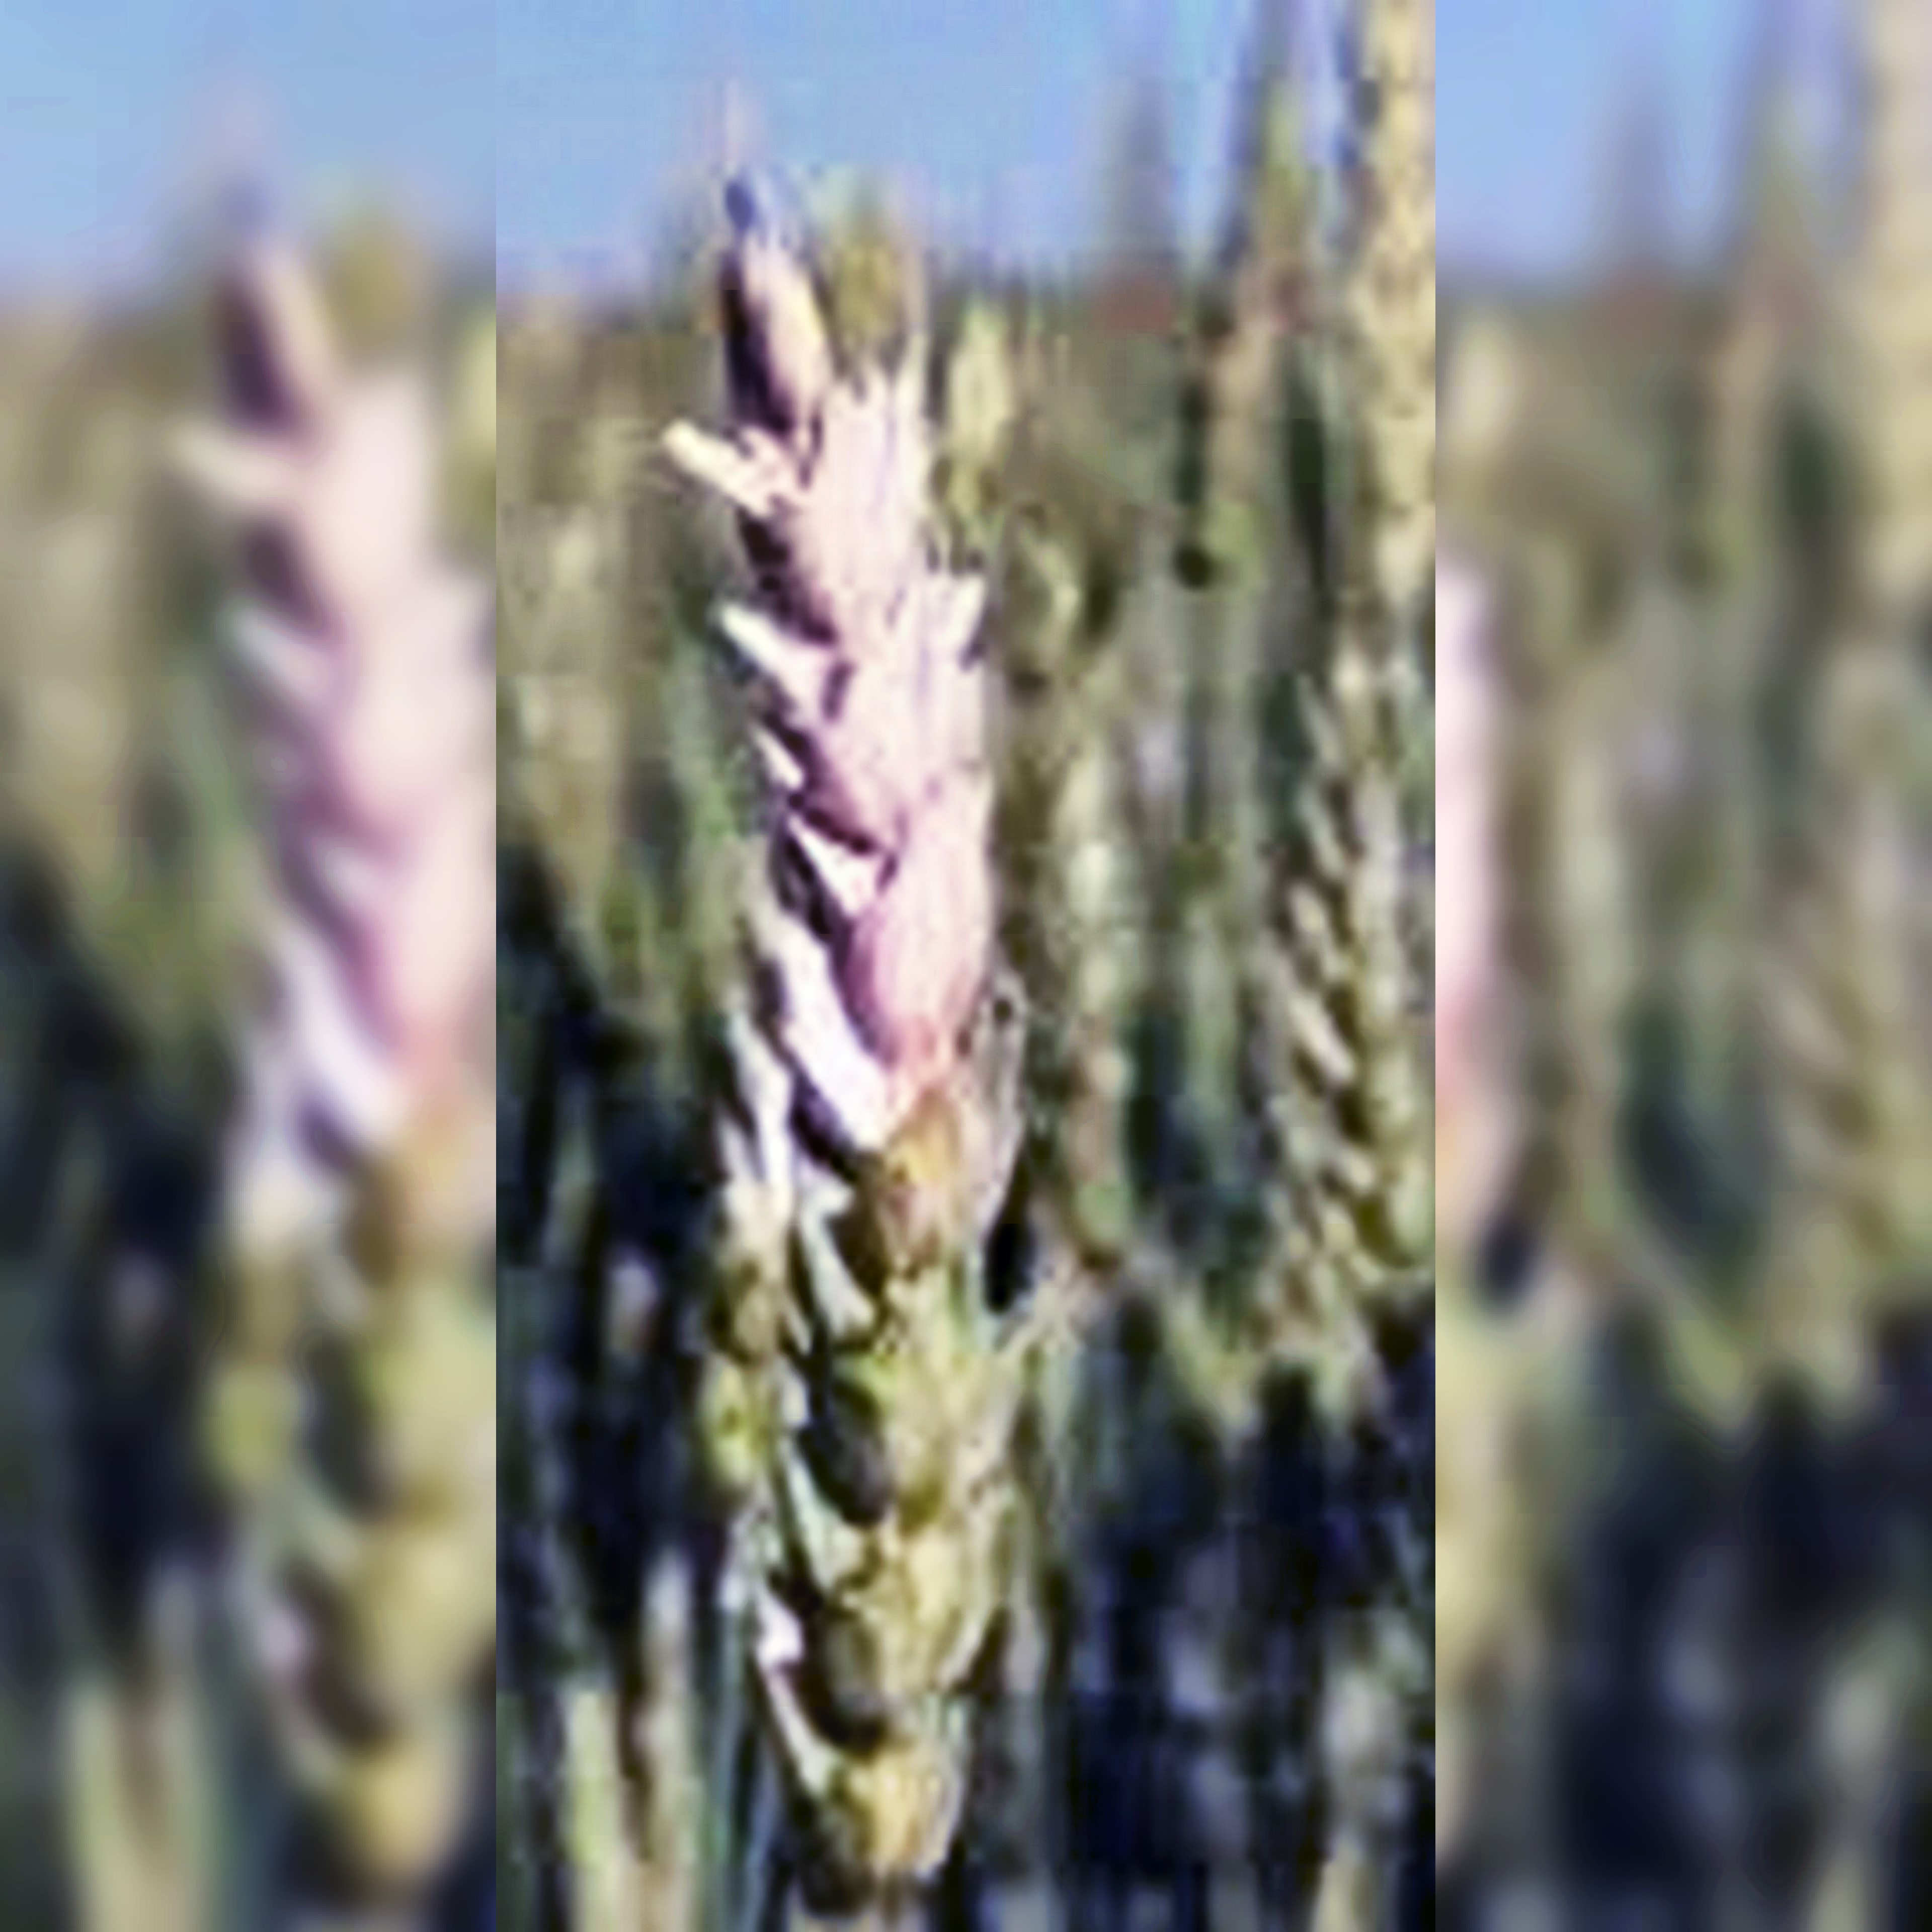Wheat scab: (639, 257, 1051, 1805)
